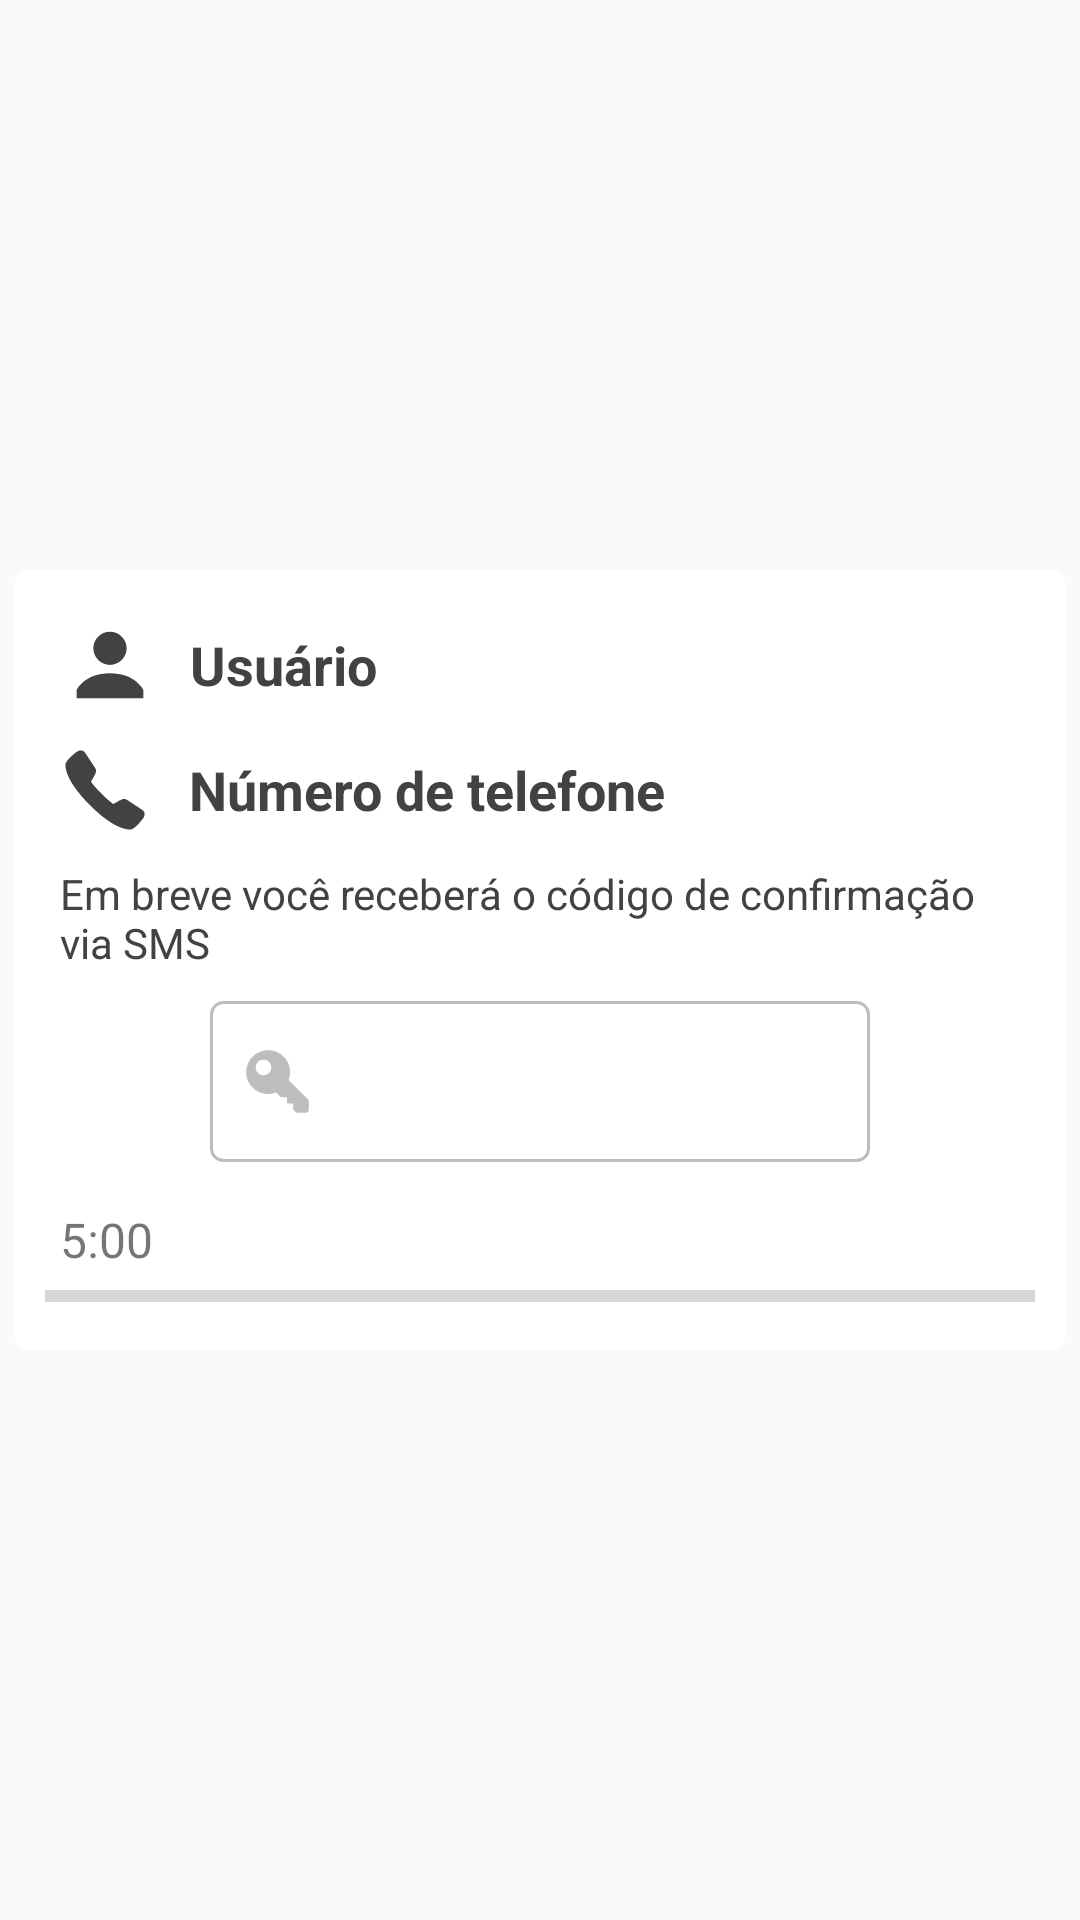

Locate icon controls on the screen. Image size 1080*1920, boxes as bbox(x1, y1, x2, y2).
phone: bbox(65, 750, 145, 830)
user: bbox(76, 631, 144, 699)
